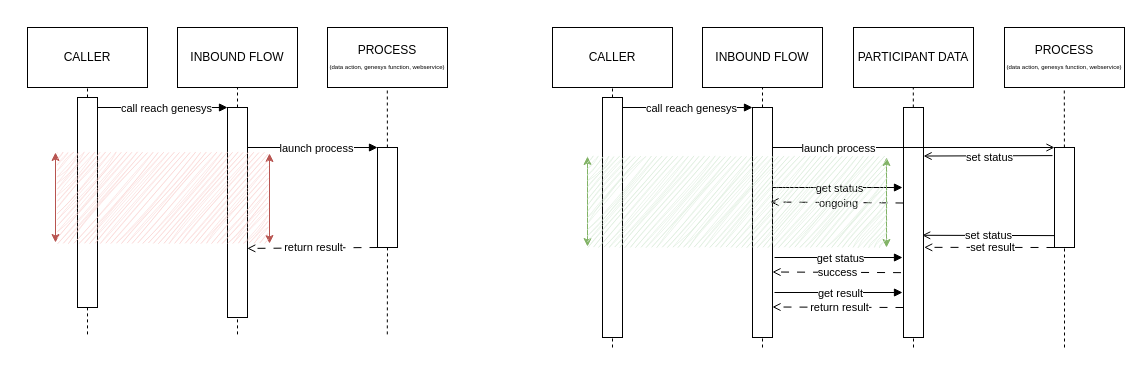
This 1144x374 diagram has some shape labels left out. The centre of each missing label's shape, as x and y in pixels:
USABLE TIME: the point at 735,201
WAITING TIME LOST: the point at 162,197
